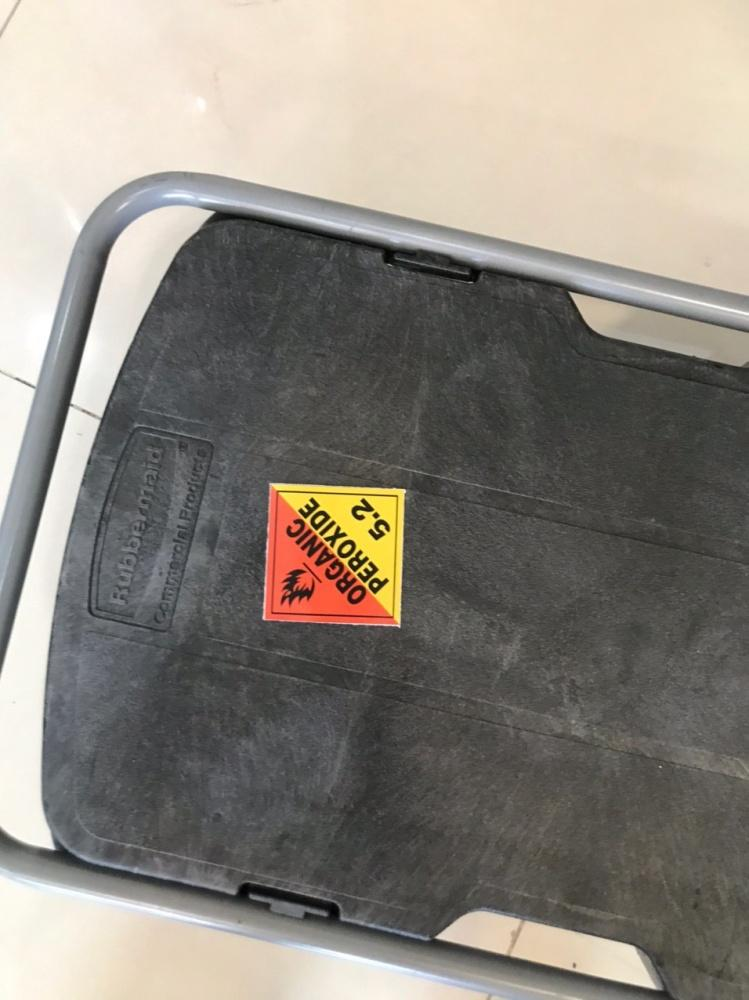organic-peroxide: (261, 485, 404, 625)
